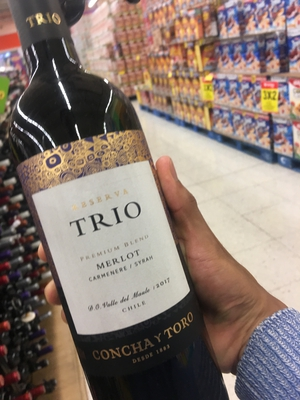trio merlot: (13, 12, 219, 400)
